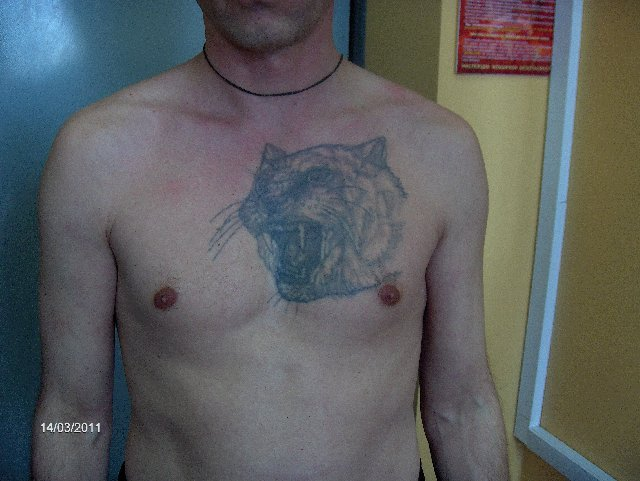tatu5_tigr: (198, 135, 414, 299)
